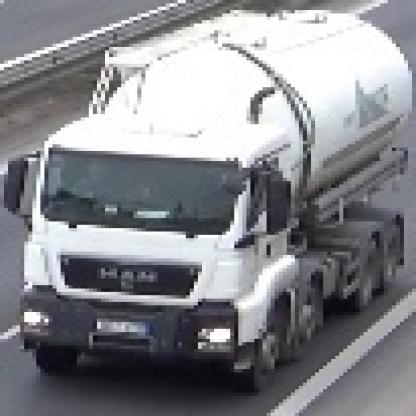truck: (1, 8, 413, 377)
